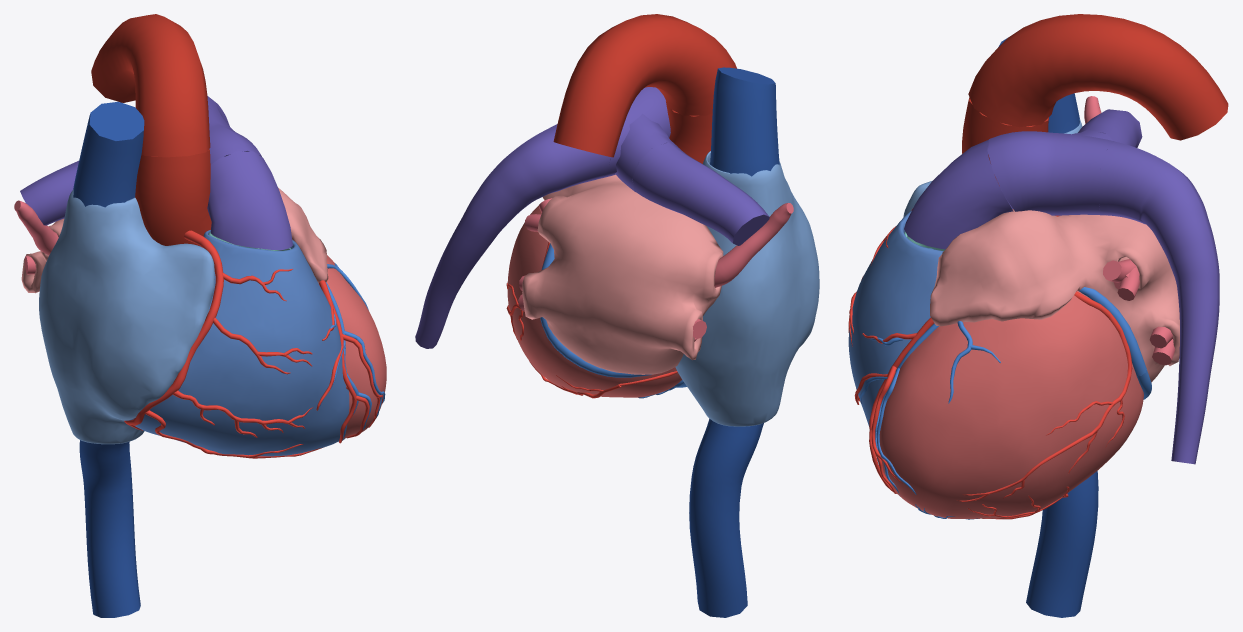
The model's file is corazon.glb.
3 views of the same model, side by side, from view 1: azimuth 30°, elevation 25°; view 2: azimuth 150°, elevation 25°; view 3: azimuth 270°, elevation 25° (orthographic). The views are drawn at different scales.
Visible parts, largest first — view 1: auricula-derecha, ventriculo-derecho, aorta, venas-cavas, tronco-pulmonar, coronarias, ventriculo-izquierdo, auricula-izquierda, venas-pulmonares, venas-cardiacas; view 2: auricula-izquierda, tronco-pulmonar, auricula-derecha, venas-cavas, aorta, ventriculo-izquierdo, venas-pulmonares, venas-cardiacas, coronarias; view 3: ventriculo-izquierdo, tronco-pulmonar, auricula-izquierda, aorta, ventriculo-derecho, venas-cavas, coronarias, venas-cardiacas, venas-pulmonares.
Boxes of the visible parts, left/top/right/bottom form: auricula-derecha: left=39, top=189, right=214, bottom=444; ventriculo-derecho: left=128, top=230, right=349, bottom=456; aorta: left=91, top=14, right=211, bottom=245; venas-cavas: left=73, top=101, right=144, bottom=617; tronco-pulmonar: left=20, top=96, right=292, bottom=250; coronarias: left=124, top=230, right=382, bottom=458; ventriculo-izquierdo: left=326, top=255, right=386, bottom=438; auricula-izquierda: left=21, top=187, right=328, bottom=293; venas-pulmonares: left=14, top=200, right=58, bottom=276; venas-cardiacas: left=320, top=263, right=385, bottom=441; auricula-izquierda: left=522, top=174, right=723, bottom=374; tronco-pulmonar: left=415, top=87, right=769, bottom=348; auricula-derecha: left=675, top=151, right=819, bottom=426; venas-cavas: left=689, top=67, right=779, bottom=617; aorta: left=553, top=14, right=736, bottom=163; ventriculo-izquierdo: left=507, top=205, right=682, bottom=397; venas-pulmonares: left=518, top=198, right=793, bottom=341; venas-cardiacas: left=540, top=243, right=686, bottom=398; coronarias: left=506, top=242, right=677, bottom=398; ventriculo-izquierdo: left=878, top=290, right=1143, bottom=518; tronco-pulmonar: left=904, top=109, right=1219, bottom=464; auricula-izquierda: left=930, top=209, right=1179, bottom=382; aorta: left=962, top=14, right=1228, bottom=216; ventriculo-derecho: left=848, top=210, right=943, bottom=426; venas-cavas: left=998, top=38, right=1098, bottom=617; coronarias: left=848, top=209, right=1132, bottom=519; venas-cardiacas: left=860, top=287, right=1151, bottom=519; venas-pulmonares: left=1084, top=96, right=1175, bottom=365.
Bounding box in the file's own units: 0.1348 × 0.2257 × 0.124.
